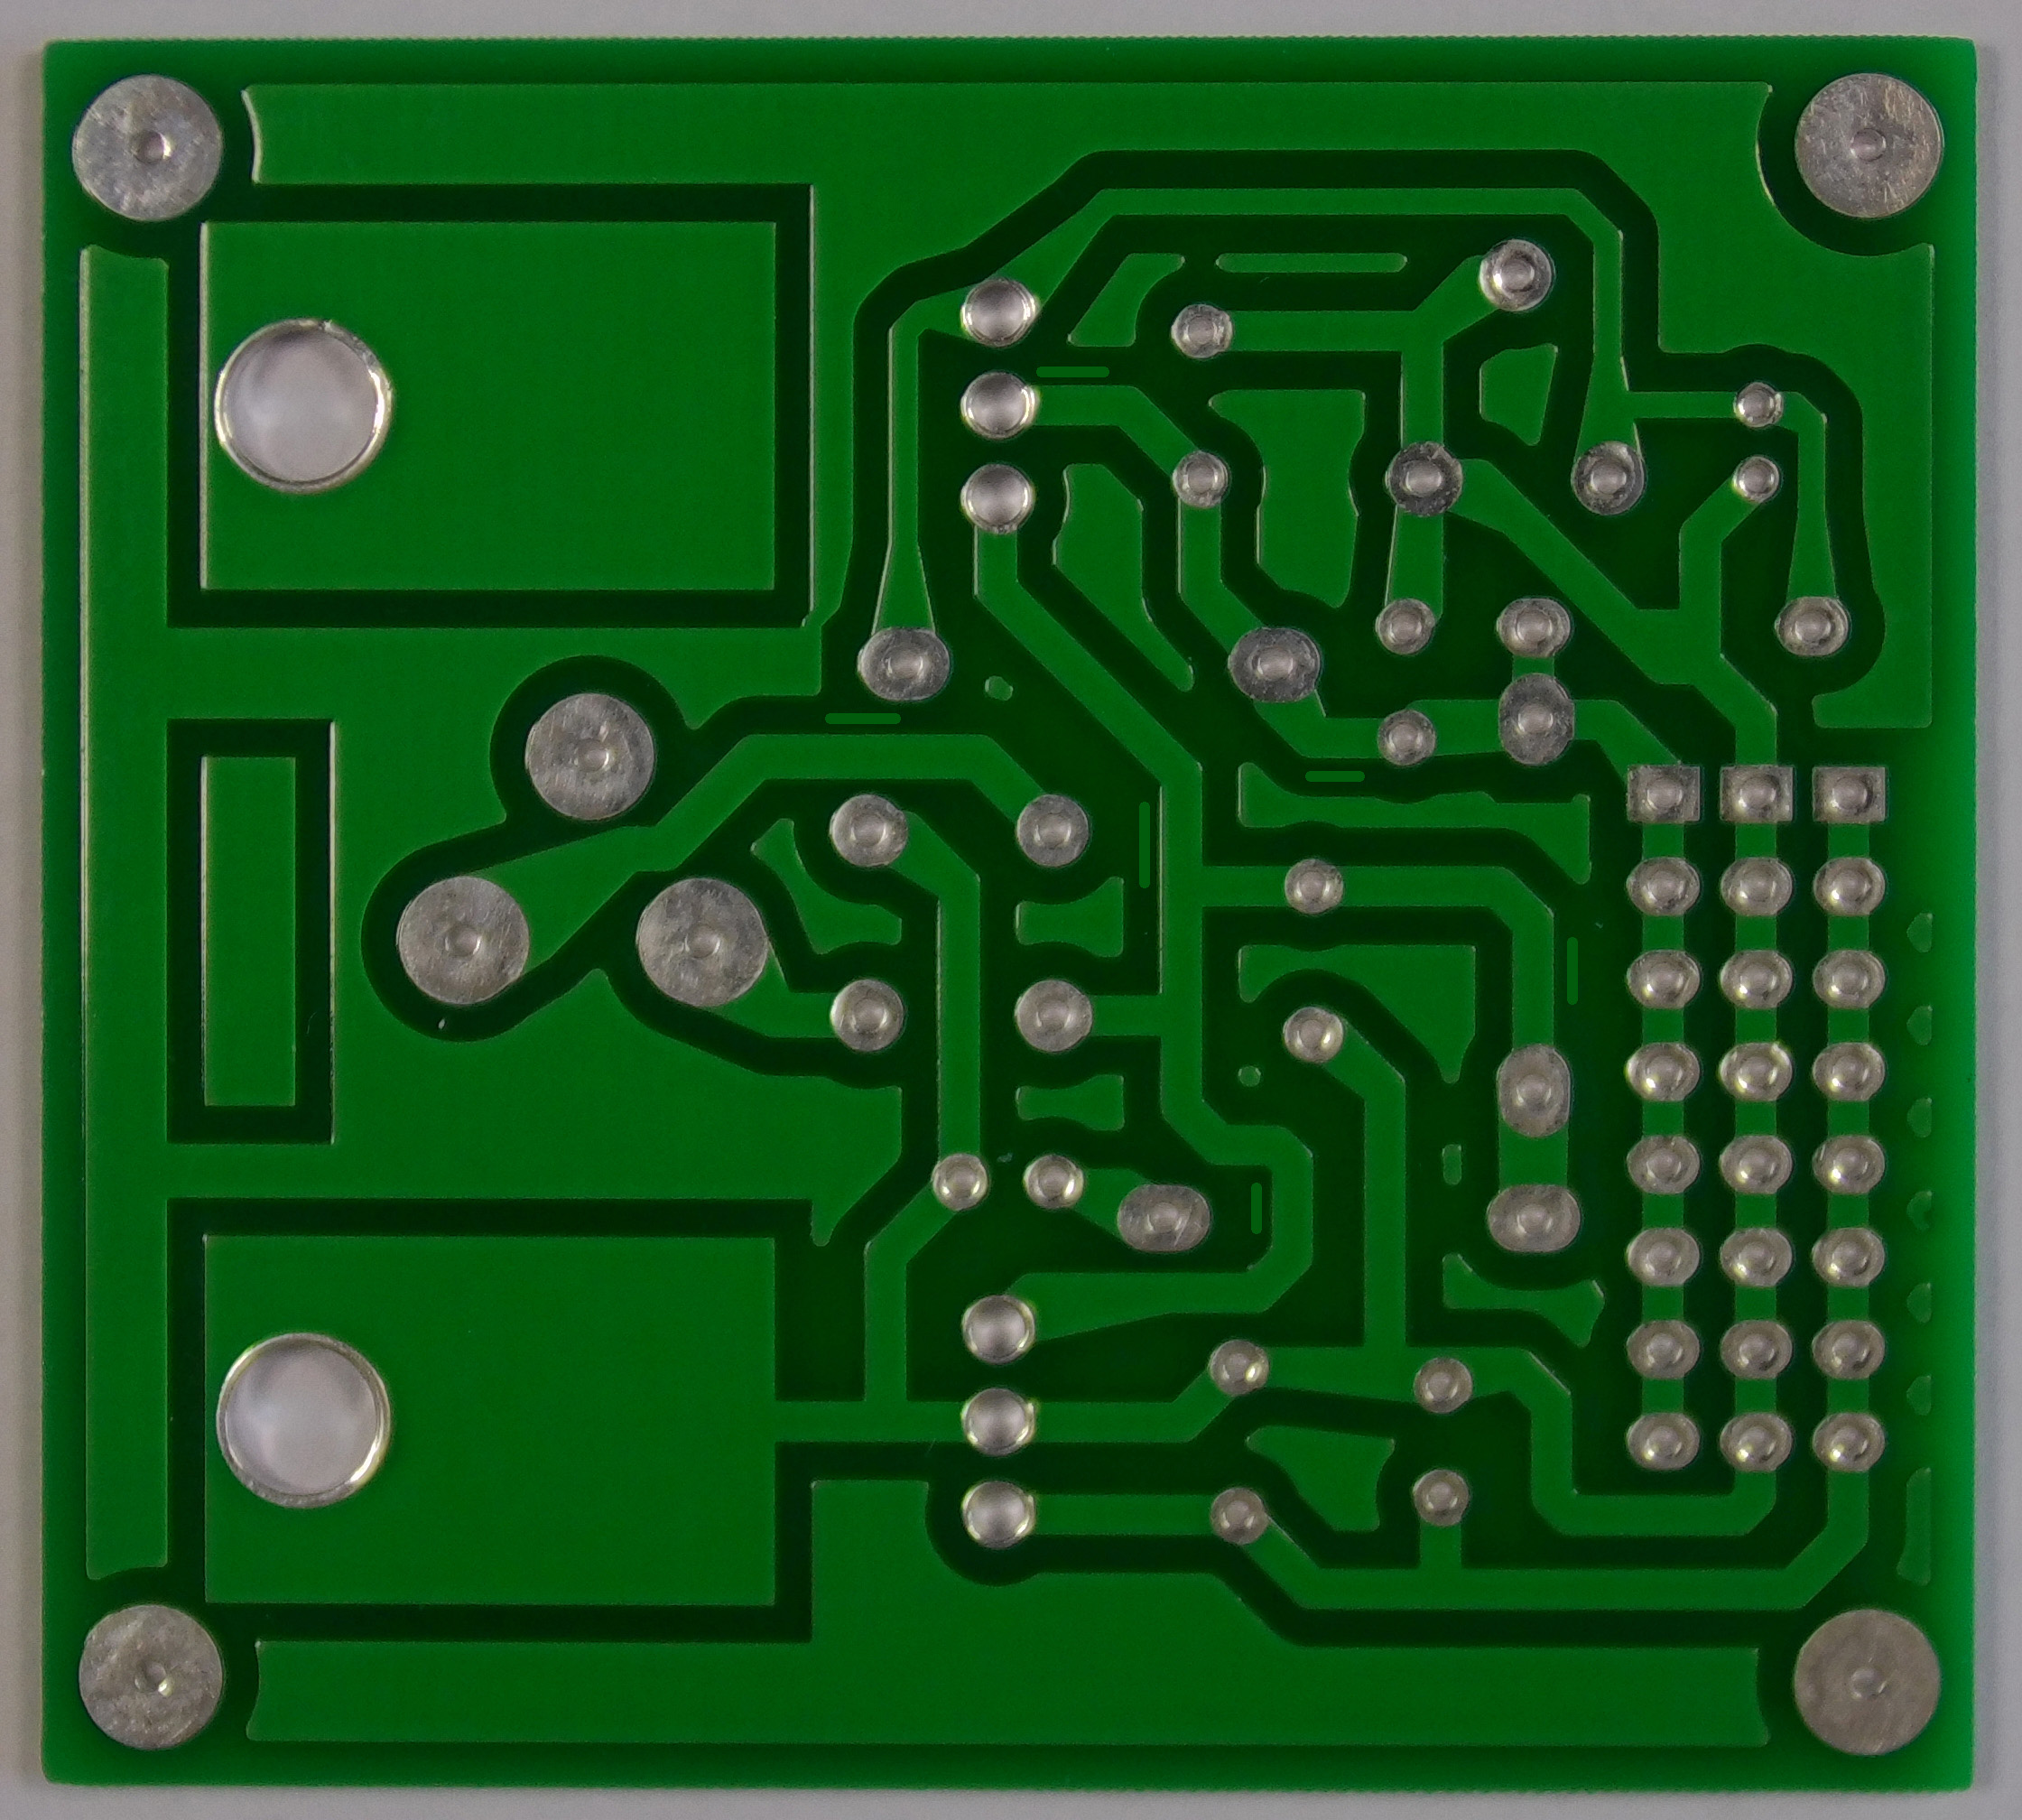spurious_copper: (1117, 789, 1165, 896), (819, 696, 912, 741), (1031, 351, 1116, 393), (1232, 1167, 1276, 1243), (1552, 923, 1588, 1012), (1294, 753, 1371, 794)
